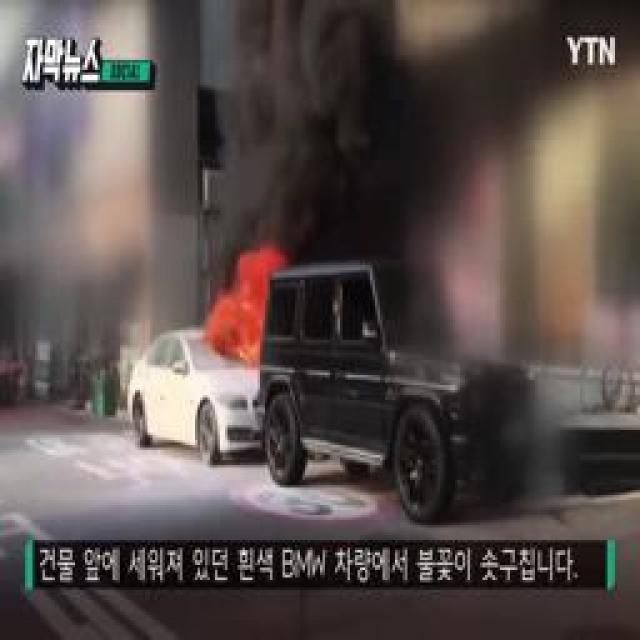Fire: (222, 244, 288, 355)
